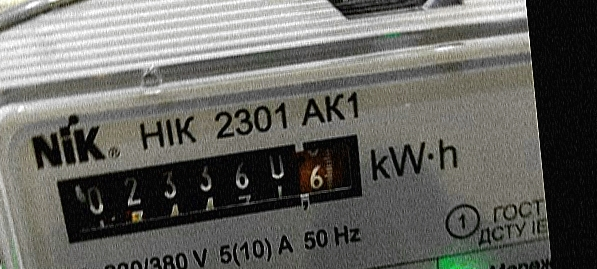0: (82, 180, 108, 216), (263, 148, 288, 181)
2: (121, 172, 144, 206)
3: (194, 157, 216, 192), (156, 167, 178, 200)
6: (229, 156, 253, 191), (304, 157, 328, 192)
screen: (37, 122, 383, 250)
